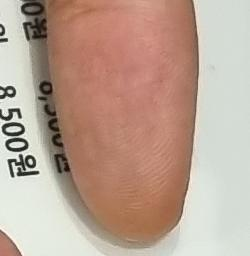Fingerprints: (46, 7, 199, 246)
